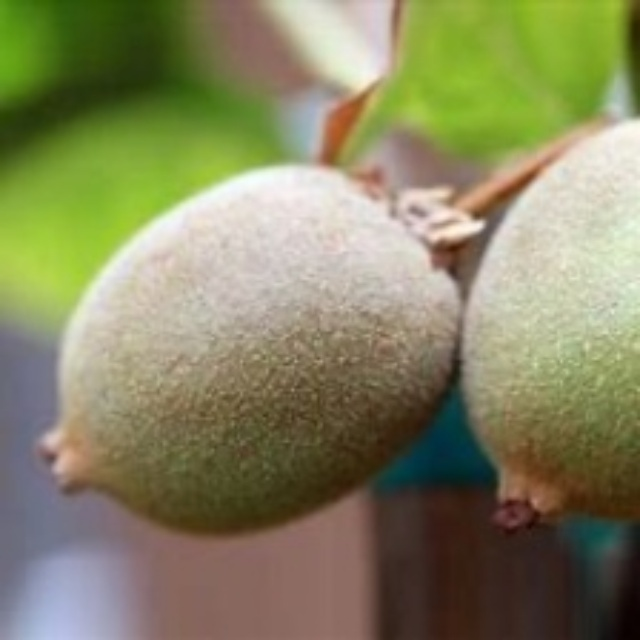kiwi: (49, 166, 459, 531), (464, 121, 639, 528)
